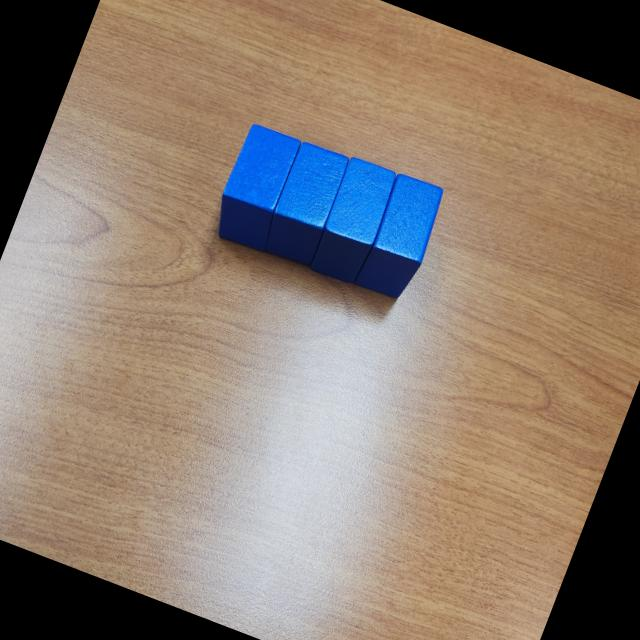blue: (207, 120, 306, 256), (354, 170, 451, 306), (257, 137, 353, 270), (307, 154, 401, 288)
